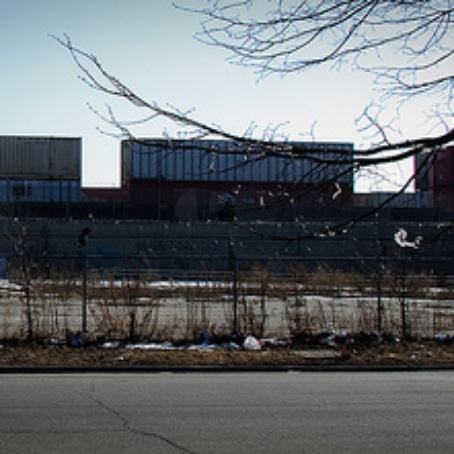sky: (1, 1, 435, 137)
street: (1, 349, 454, 454)
tree: (116, 1, 454, 197)
